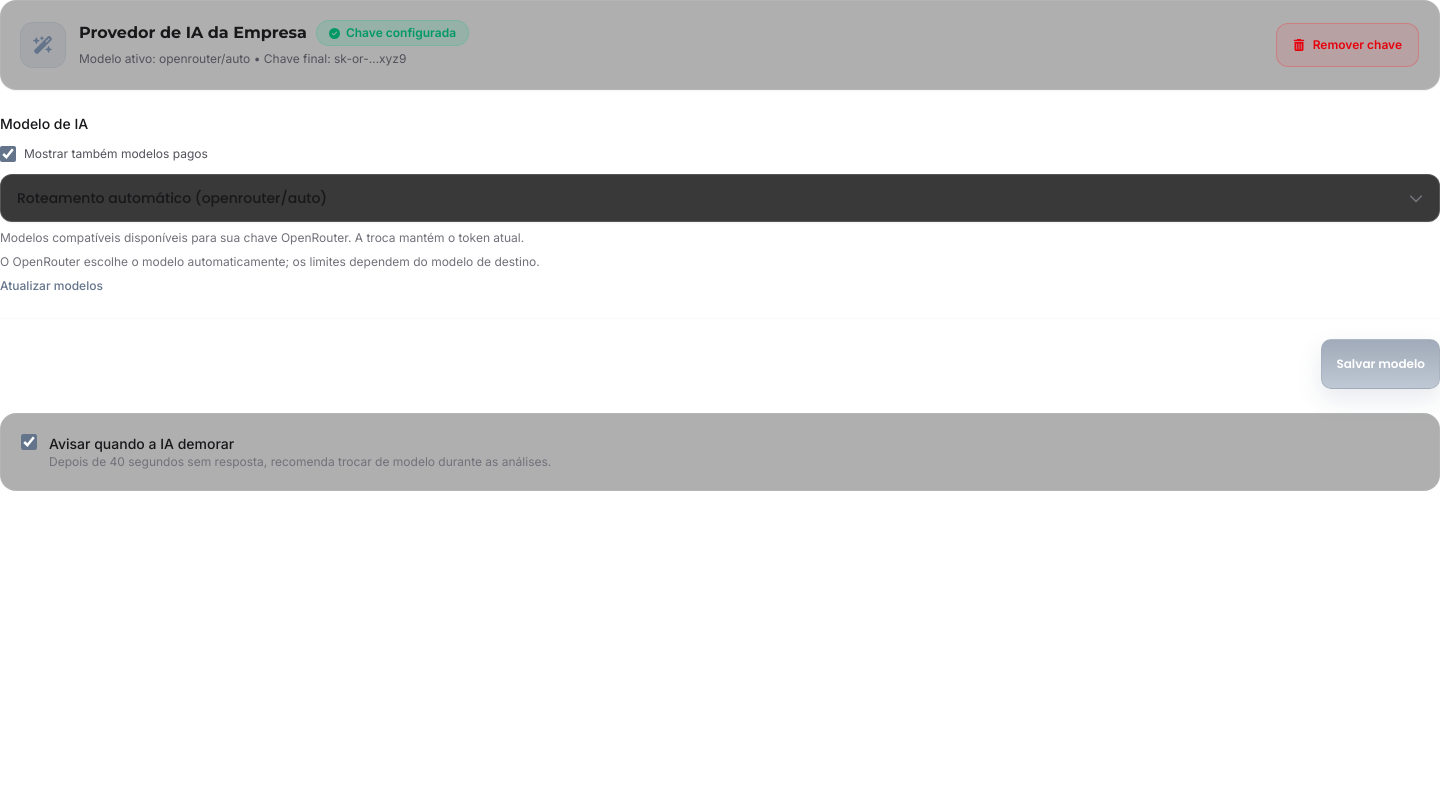
Scenario: FormIaSettings — cadastro e remoção da chave › filtro de modelos gratuitos › restaura opções ao desmarcar sem perder texto nem modelo escolhido
Click the dropdown named "Modelo de IA" at [172, 198], box 0,174 -> 1439,222
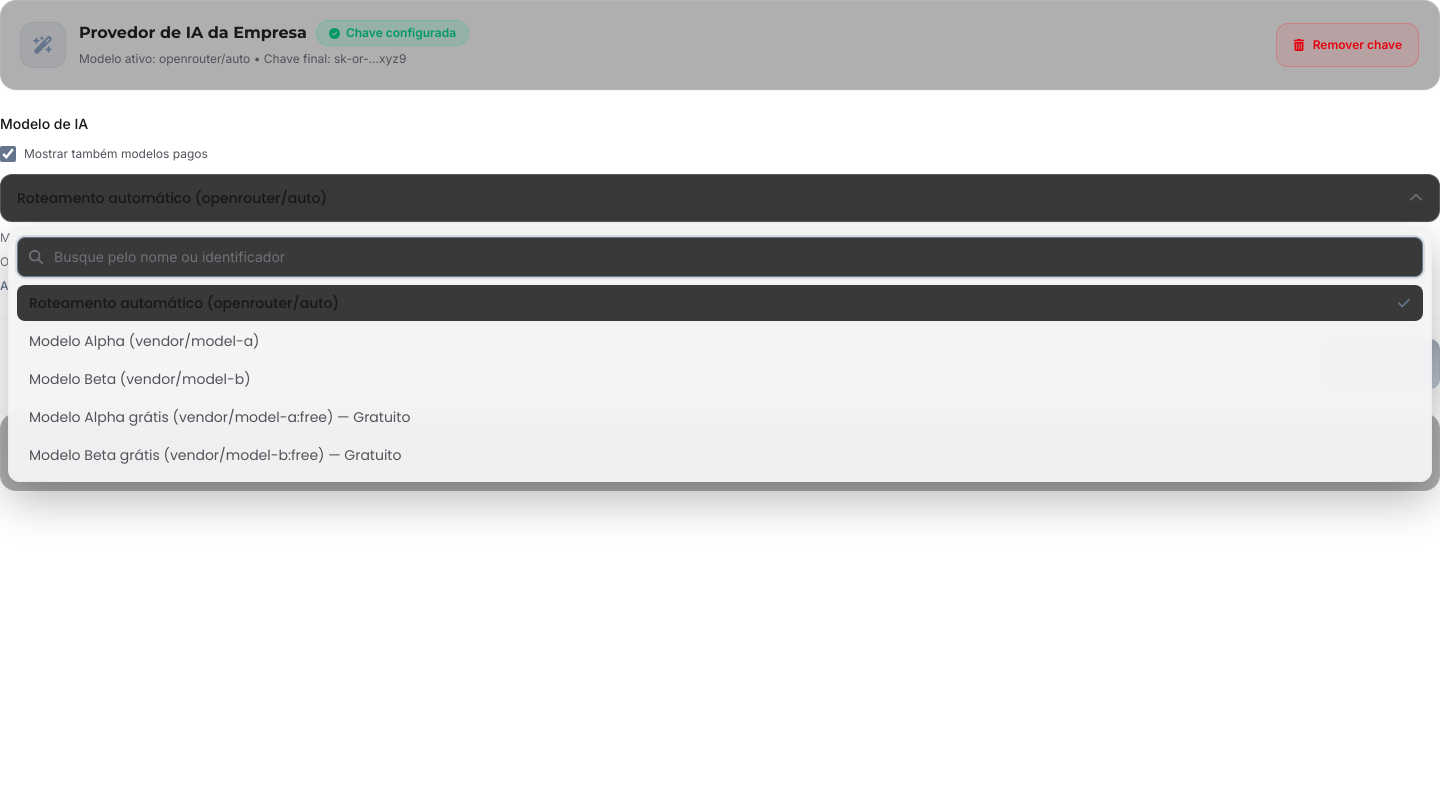
Type "Alpha" into the search field named "Buscar modelo" at [720, 256], box 17,236 -> 1423,276
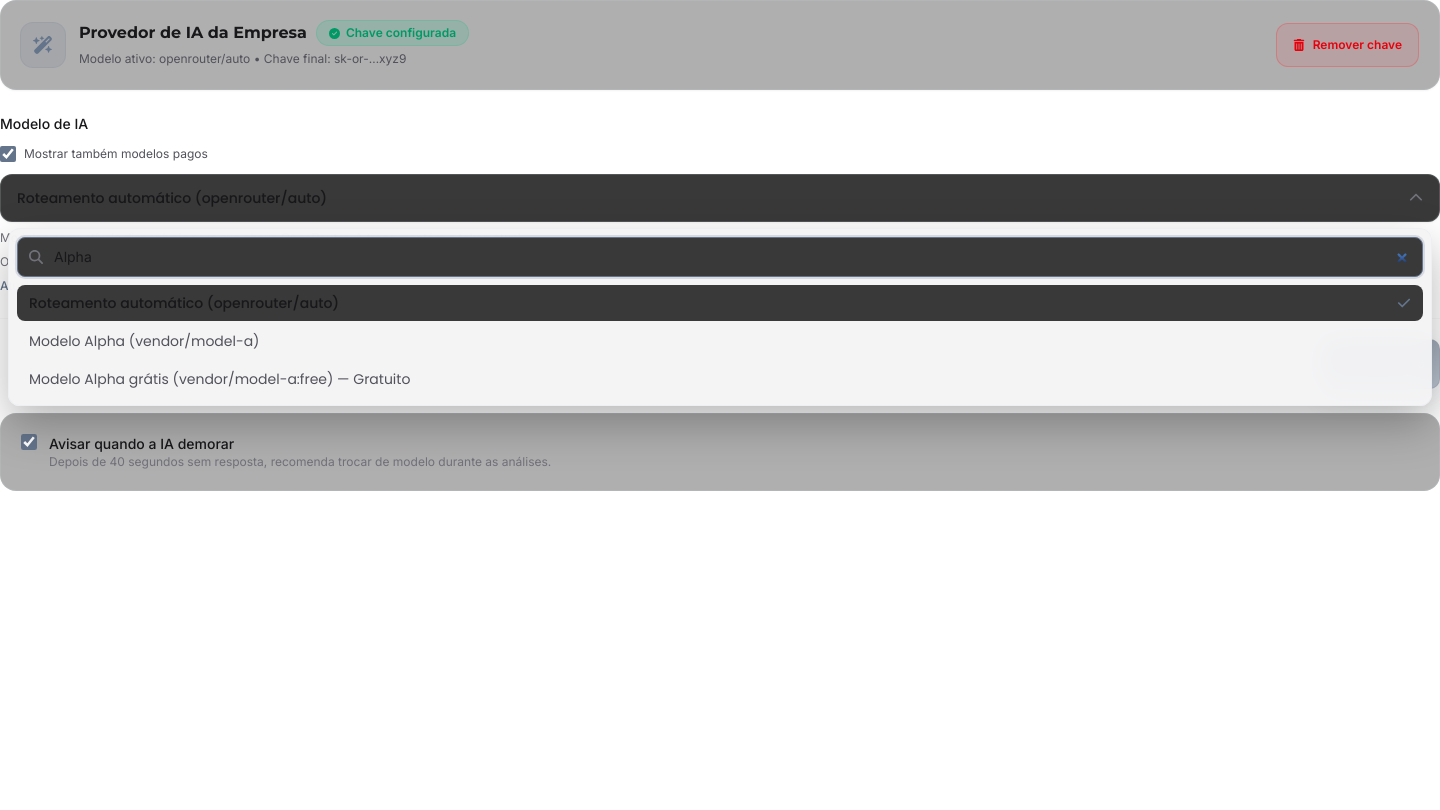
Click the checkbox labelled "Mostrar também modelos pagos" at [8, 154], box 0,146 -> 16,162
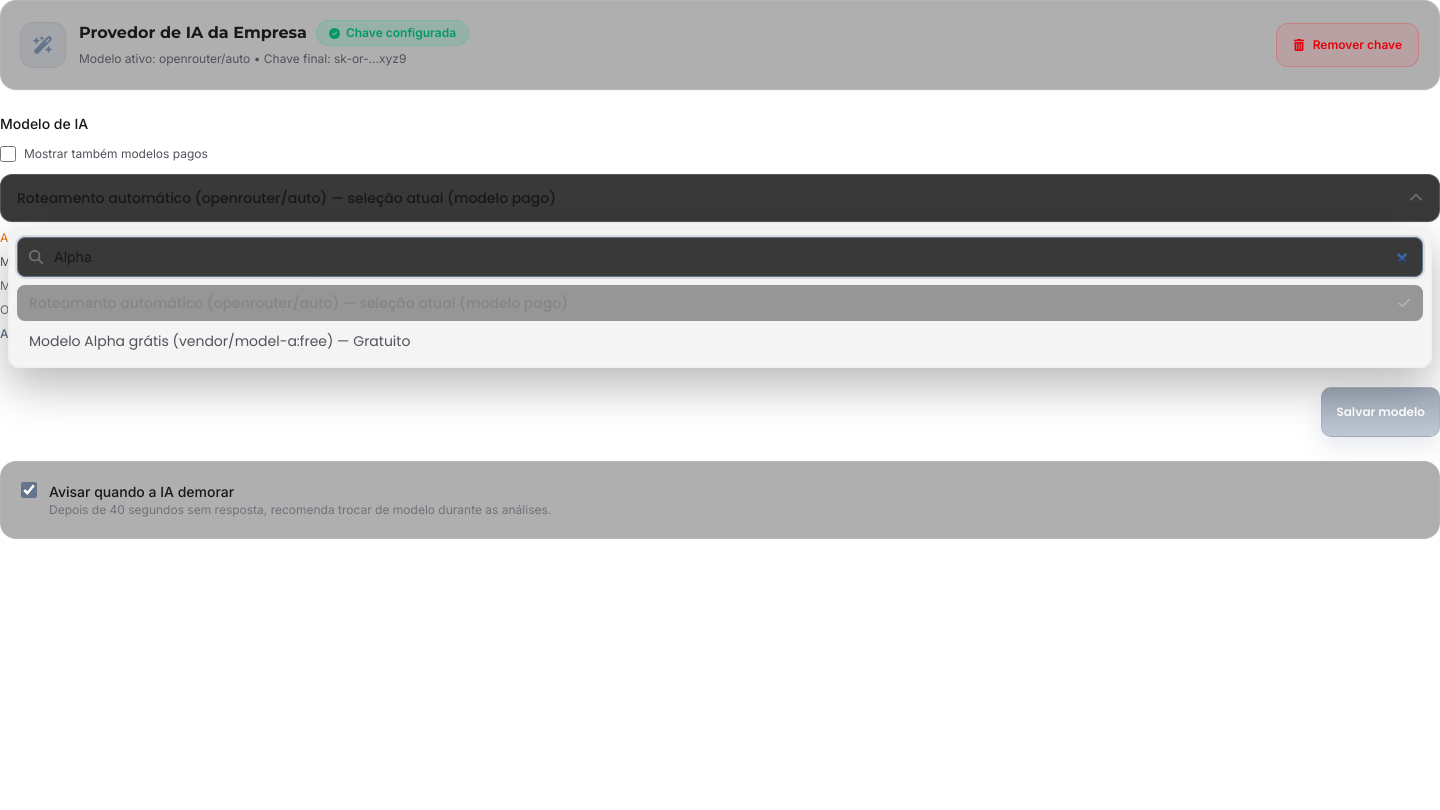
Click the option "Modelo Alpha grátis (vendor/model-a:free) — Gratuito" at [220, 340], box 17,322 -> 1423,358
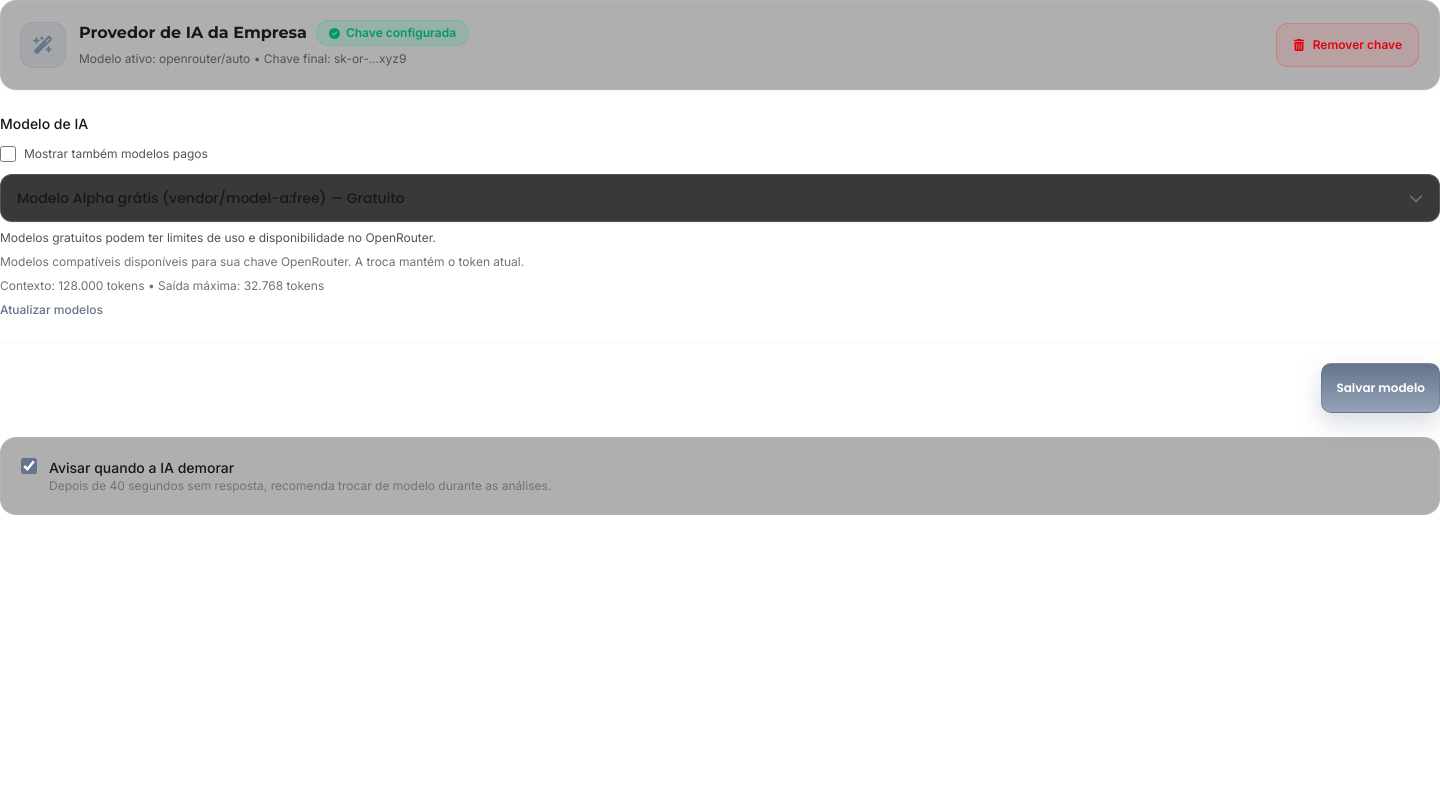
Click the checkbox labelled "Mostrar também modelos pagos" at [8, 154], box 0,146 -> 16,162
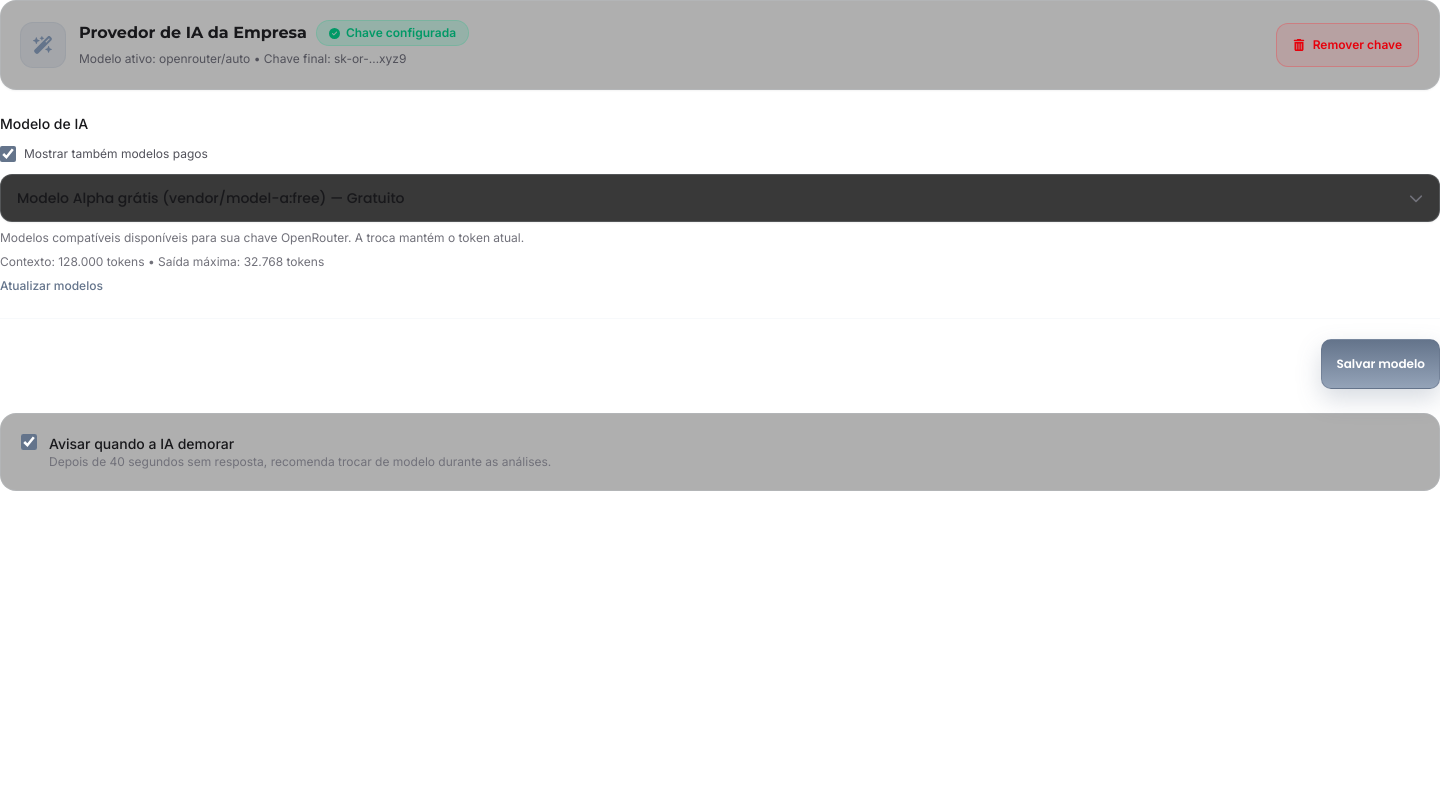
Click the dropdown named "Modelo de IA" at [211, 198], box 0,174 -> 1439,222
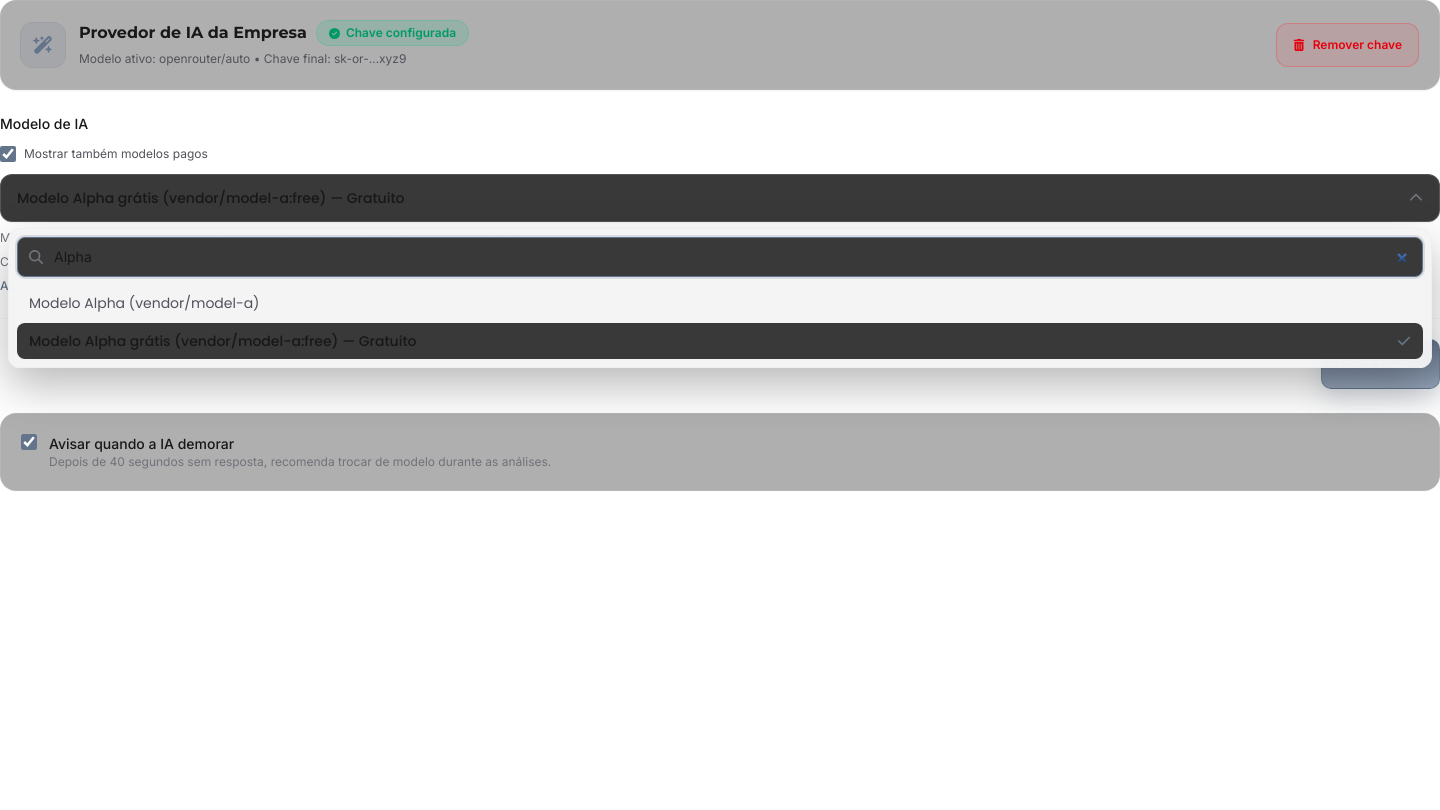
Expected: the option "Modelo Beta" is not shown
Expected: the search field named "Buscar modelo" holds "Alpha", 17,236 -> 1423,276
Expected: the option "Modelo Alpha (vendor/model-a)" is enabled, 17,284 -> 1423,320
